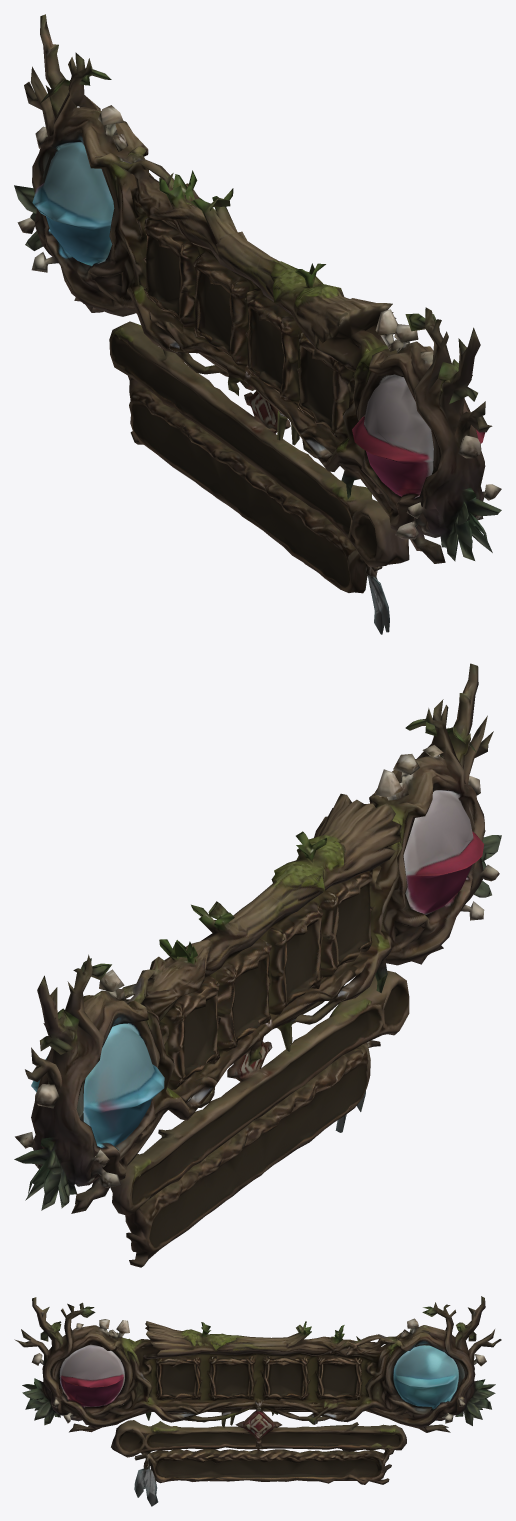
File: 09d4f8a3-4723-4662-b436-24ebf49165c8_model_url.glb
3 views of the same model, one above another, from view 1: azimuth 30°, elevation 25°; view 2: azimuth 150°, elevation 25°; view 3: azimuth 270°, elevation 25° (orthographic). The views are drawn at different scales.
Visible parts, largest first — view 1: tripo_node_09d4f8a3-4723-4662-b436-24ebf49165c8; view 2: tripo_node_09d4f8a3-4723-4662-b436-24ebf49165c8; view 3: tripo_node_09d4f8a3-4723-4662-b436-24ebf49165c8.
Part boxes in pixels (x1,y1,x2,y2): tripo_node_09d4f8a3-4723-4662-b436-24ebf49165c8: (14, 14, 501, 634); tripo_node_09d4f8a3-4723-4662-b436-24ebf49165c8: (14, 663, 501, 1267); tripo_node_09d4f8a3-4723-4662-b436-24ebf49165c8: (14, 1296, 501, 1506).
Size of the model in its own units: 0.1423 by 0.4647 by 1.
Materials: 1 (1 with a texture image).
